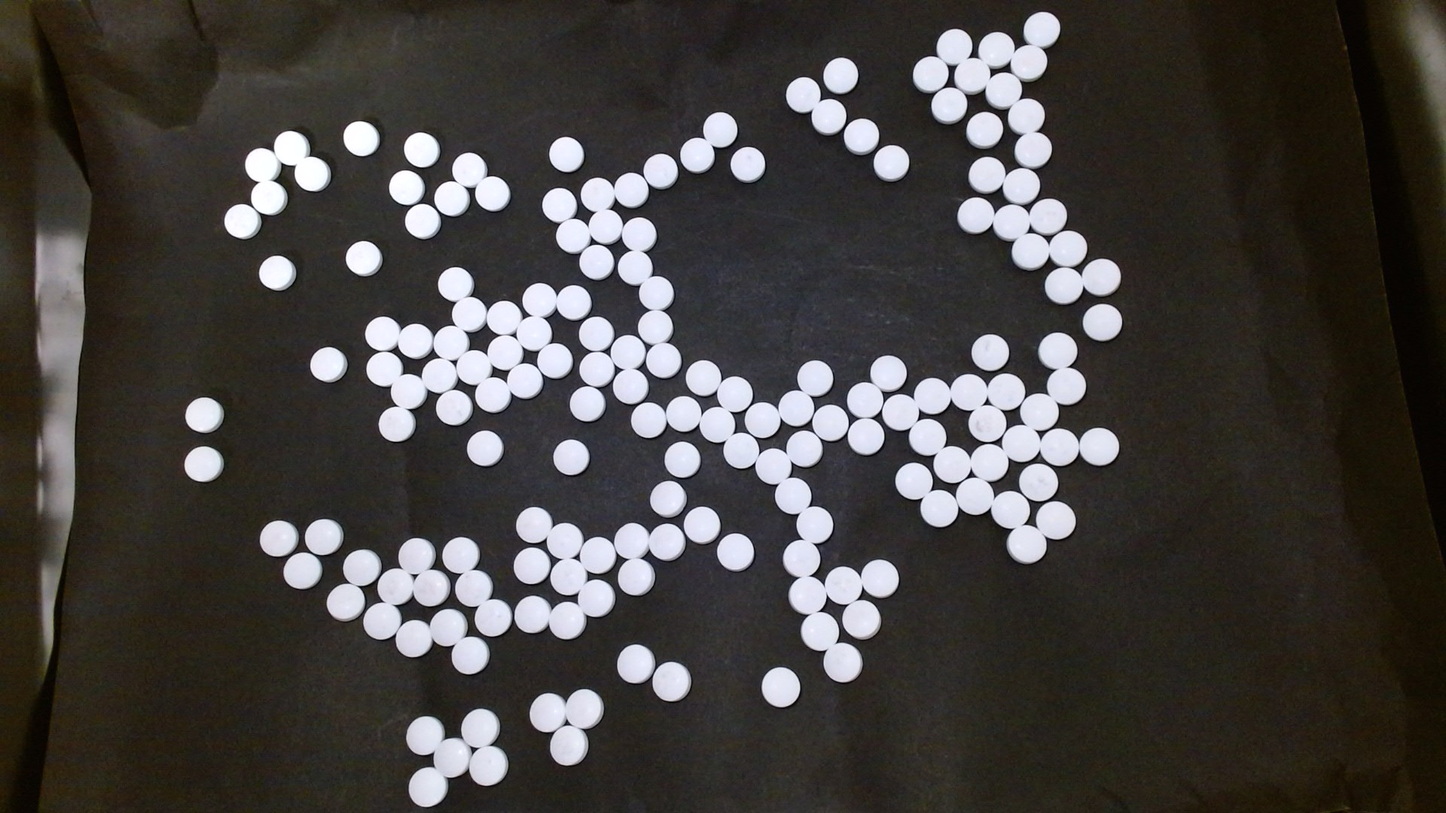Circle: (1078, 427, 1120, 467), (1082, 302, 1123, 342), (459, 708, 499, 749), (404, 714, 444, 755), (651, 661, 691, 702), (468, 745, 508, 786), (761, 667, 801, 708), (1034, 501, 1076, 540), (1081, 257, 1121, 297), (450, 635, 490, 675), (1019, 392, 1059, 432), (1039, 427, 1079, 467), (1037, 331, 1078, 370), (823, 642, 862, 683), (282, 551, 322, 590), (716, 532, 755, 572), (473, 598, 512, 638), (1018, 462, 1058, 501), (990, 490, 1030, 529), (955, 476, 994, 516), (528, 692, 567, 732), (1007, 526, 1047, 565), (432, 737, 471, 777), (408, 767, 447, 807), (549, 725, 587, 766), (1013, 130, 1052, 169), (1010, 231, 1049, 270), (774, 477, 813, 516), (841, 599, 880, 638), (919, 489, 958, 528), (800, 612, 839, 651), (411, 568, 450, 607), (616, 644, 654, 684), (304, 517, 343, 555), (325, 583, 364, 621), (860, 558, 898, 597), (1044, 266, 1083, 304), (1002, 424, 1041, 462), (513, 595, 551, 634), (789, 575, 827, 614), (551, 438, 590, 476), (548, 600, 586, 639), (549, 557, 587, 596), (970, 442, 1008, 481), (258, 519, 298, 556), (183, 446, 223, 483), (1002, 167, 1040, 205), (1049, 229, 1087, 267), (956, 196, 994, 234), (992, 202, 1030, 240), (796, 358, 834, 396), (648, 479, 686, 517), (796, 506, 834, 544), (909, 417, 947, 455), (362, 602, 400, 640), (950, 373, 988, 411), (429, 608, 467, 646), (514, 505, 552, 543), (933, 445, 971, 483), (969, 405, 1007, 443), (970, 333, 1008, 371), (435, 388, 473, 426), (895, 461, 932, 500), (566, 688, 602, 728), (968, 155, 1005, 193), (930, 85, 967, 123), (441, 535, 478, 573), (912, 55, 949, 93), (1046, 367, 1084, 404), (578, 579, 615, 617), (578, 536, 615, 574), (454, 569, 492, 606), (782, 539, 819, 577), (881, 393, 918, 431), (913, 377, 950, 415), (648, 522, 685, 560), (395, 619, 432, 657), (258, 254, 296, 291), (988, 372, 1025, 410), (935, 27, 972, 65), (184, 397, 223, 433), (474, 175, 511, 212), (343, 549, 380, 586), (389, 373, 426, 410), (1029, 197, 1066, 234), (398, 537, 435, 574), (953, 56, 990, 93), (683, 507, 720, 544), (378, 406, 415, 443), (872, 144, 909, 181), (514, 547, 551, 584), (474, 376, 511, 413), (755, 448, 792, 485), (870, 354, 907, 391), (716, 375, 753, 412), (546, 522, 583, 559), (825, 567, 862, 604), (377, 568, 414, 605), (966, 110, 1002, 148), (618, 558, 654, 596), (722, 432, 758, 470), (978, 31, 1014, 69), (342, 120, 380, 156), (292, 156, 331, 191), (1009, 97, 1045, 134), (1010, 44, 1047, 80), (403, 131, 440, 167), (223, 203, 260, 239), (450, 296, 487, 332), (569, 386, 606, 422), (516, 315, 552, 352), (273, 129, 310, 165), (578, 315, 614, 352), (612, 367, 648, 404), (309, 346, 346, 382), (812, 403, 848, 440), (466, 429, 502, 466), (1023, 11, 1060, 47), (811, 97, 846, 135), (614, 521, 649, 559), (451, 151, 487, 187), (847, 381, 883, 417), (778, 390, 814, 426), (847, 418, 883, 454), (345, 240, 381, 276), (609, 333, 645, 369), (630, 401, 666, 437), (548, 136, 584, 172), (578, 352, 615, 387), (664, 440, 699, 477), (535, 343, 572, 378), (700, 406, 735, 443), (822, 56, 857, 93), (730, 145, 765, 182), (843, 118, 878, 154), (249, 181, 285, 216), (985, 72, 1020, 108), (365, 351, 401, 386), (587, 208, 622, 244), (613, 172, 648, 208), (364, 315, 400, 350), (554, 218, 590, 253), (638, 275, 674, 310), (685, 359, 720, 395), (638, 309, 673, 345), (487, 333, 522, 369), (786, 430, 820, 467), (666, 395, 700, 432), (389, 170, 424, 205), (397, 322, 432, 357), (421, 358, 456, 393), (456, 350, 491, 385), (580, 177, 615, 212), (618, 250, 653, 285), (508, 362, 543, 397), (744, 401, 779, 436), (522, 282, 557, 317), (646, 342, 681, 377), (703, 110, 737, 146), (437, 266, 473, 300), (434, 181, 468, 216), (404, 205, 439, 239), (680, 137, 714, 172), (578, 244, 612, 279), (244, 147, 279, 181), (434, 324, 468, 359), (621, 216, 655, 251), (542, 187, 576, 222), (555, 284, 590, 318), (786, 76, 819, 112), (486, 300, 520, 334), (643, 153, 676, 188)
